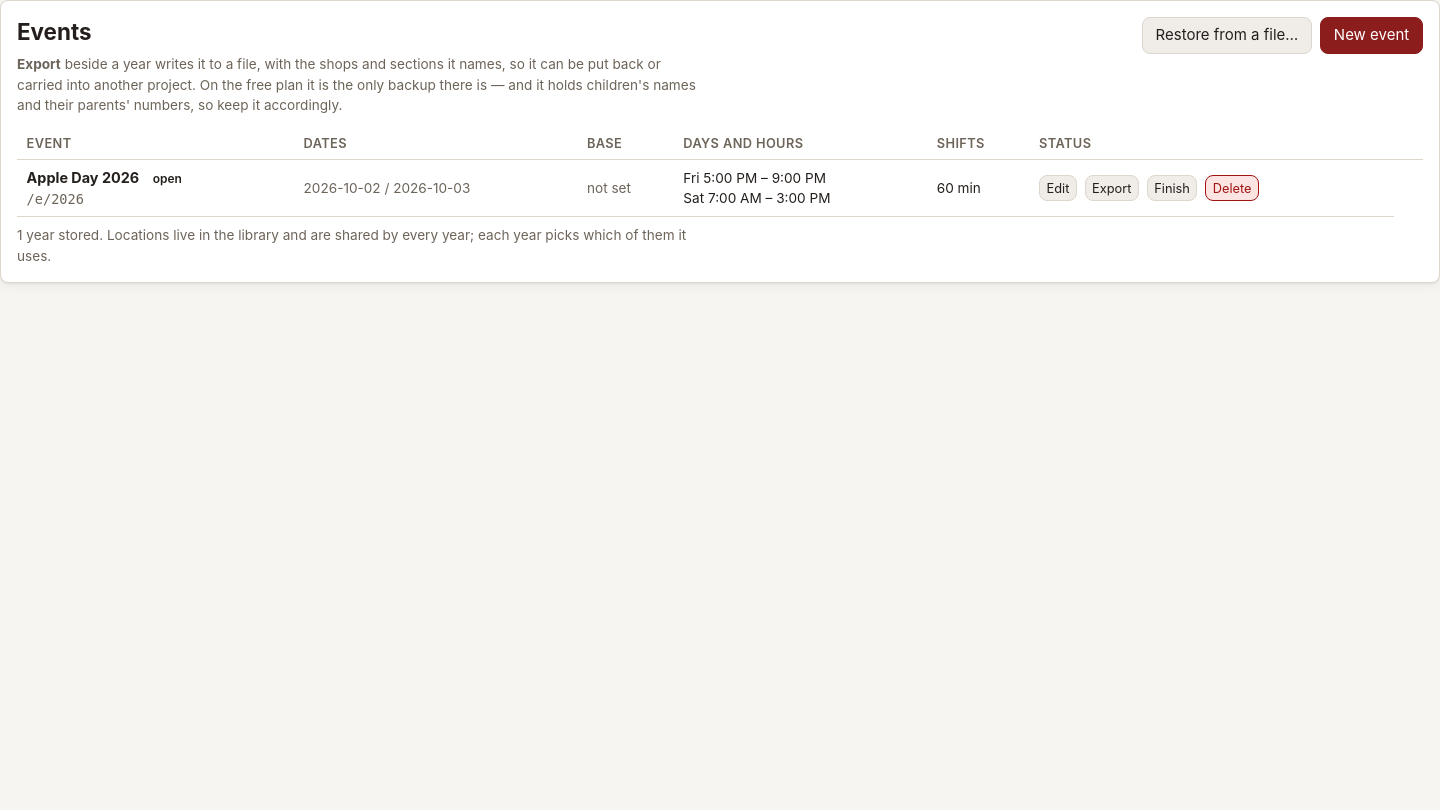
Scenario: setting the hours › flags a day that ends before it starts, beside the field
The image size is (1440, 810).
Click the button "Edit" at (1058, 188), box [1039, 175, 1077, 201]
(page scrolled)
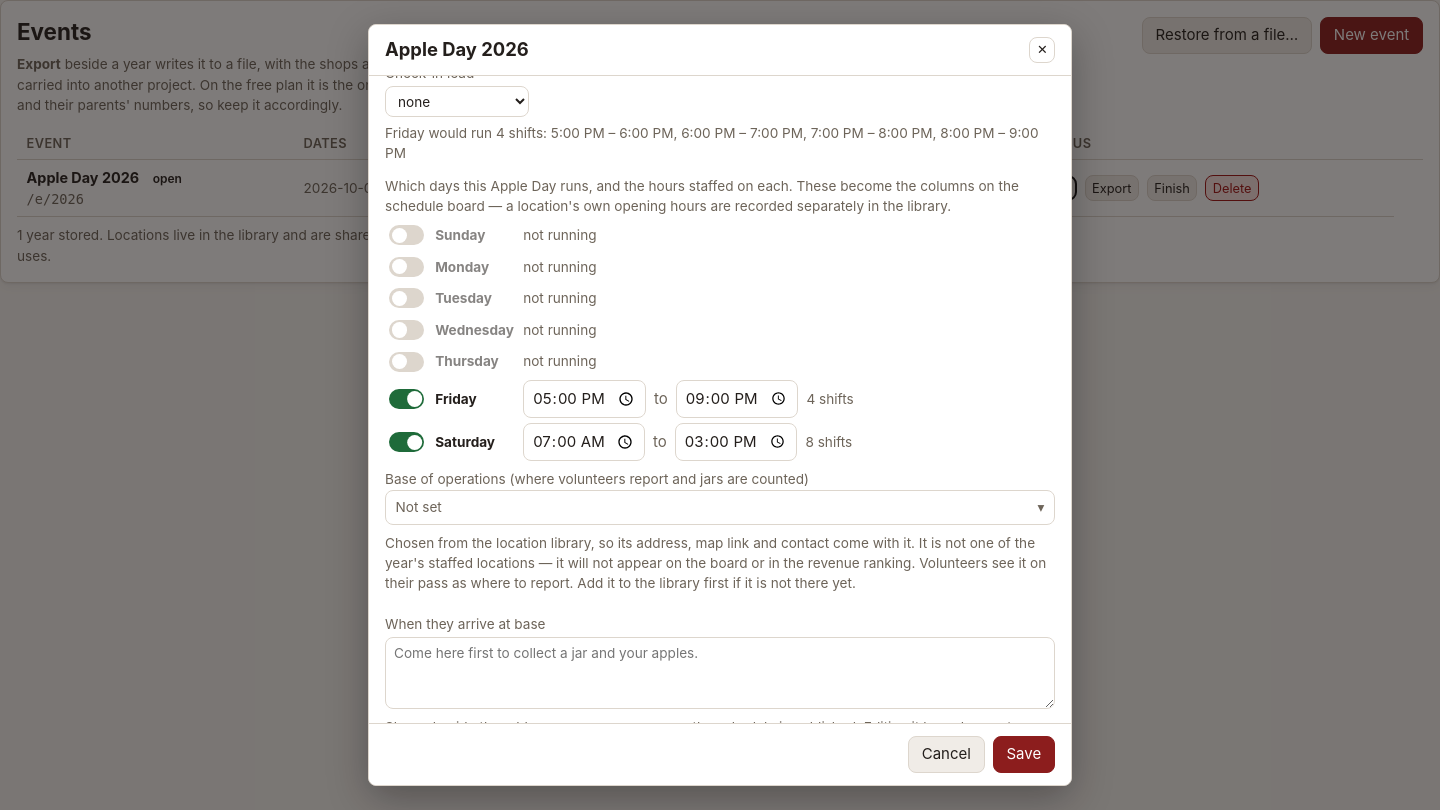
Replace the text in the time field named "Friday end" with "16:00" at (737, 399), box [676, 380, 798, 418]
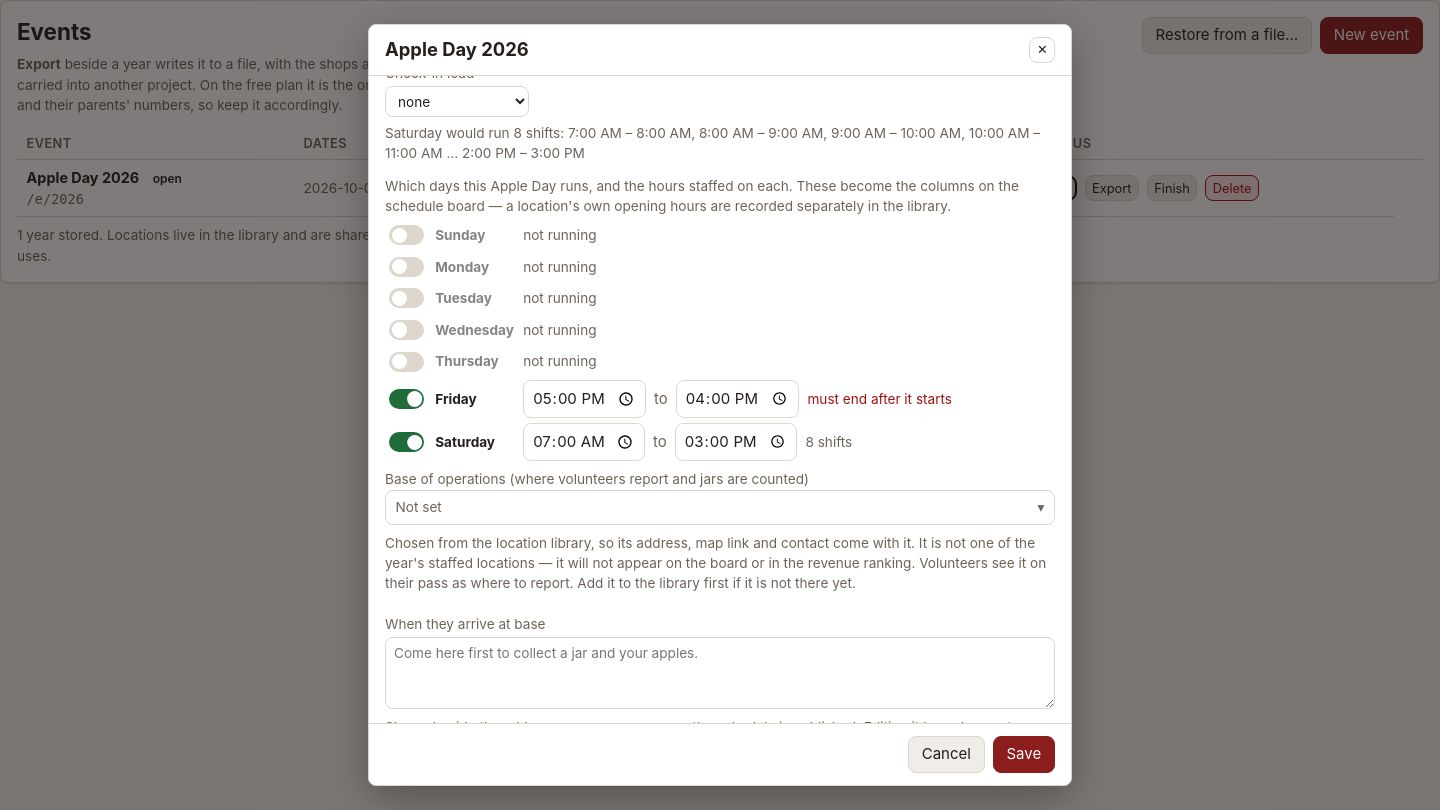
expect the text "must end after it starts" is shown: met, box [808, 389, 952, 409]
